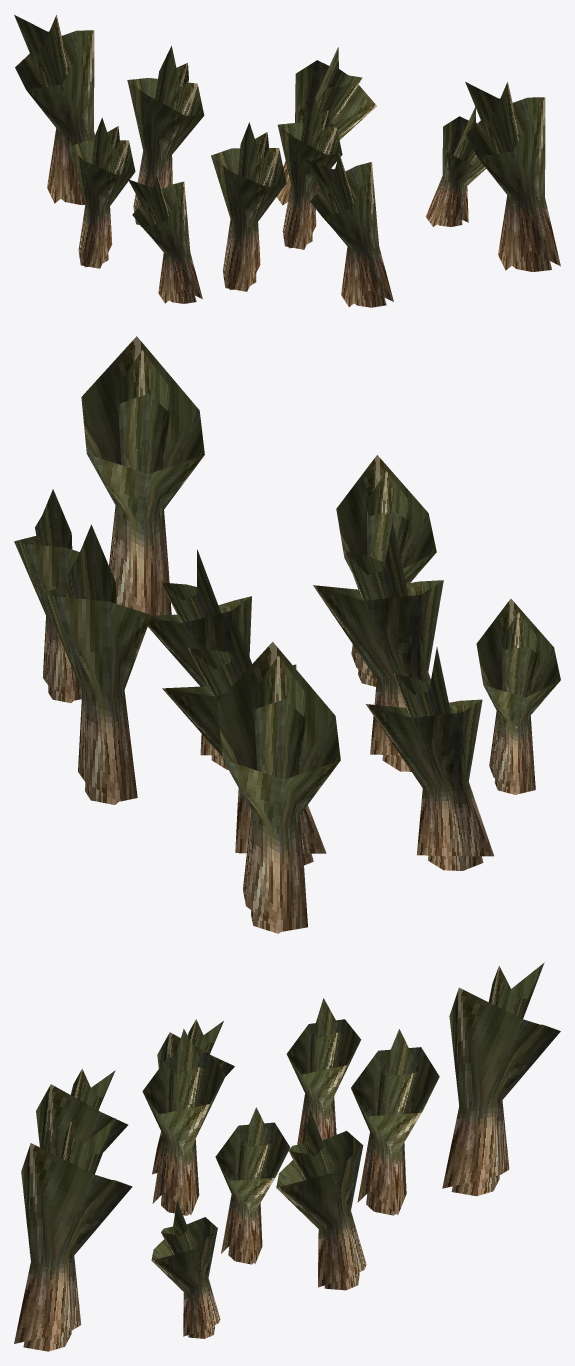
Rendered from Tree10.obj.
3 renders of one model, top to bottom at view 1: azimuth 30°, elevation 25°; view 2: azimuth 150°, elevation 25°; view 3: azimuth 270°, elevation 25°, orthographic. The views are drawn at different scales.
Visible parts, largest first — view 1: Mesh_0; view 2: Mesh_0; view 3: Mesh_0.
Boxes of the visible parts, x1=… form: Mesh_0: x1=14, y1=15, x2=560, y2=307; Mesh_0: x1=14, y1=336, x2=560, y2=933; Mesh_0: x1=14, y1=962, x2=560, y2=1351.
Bounding box in the file's own units: 3.27 × 1.59 × 3.65.
Materials: 1 (1 with a texture image).
